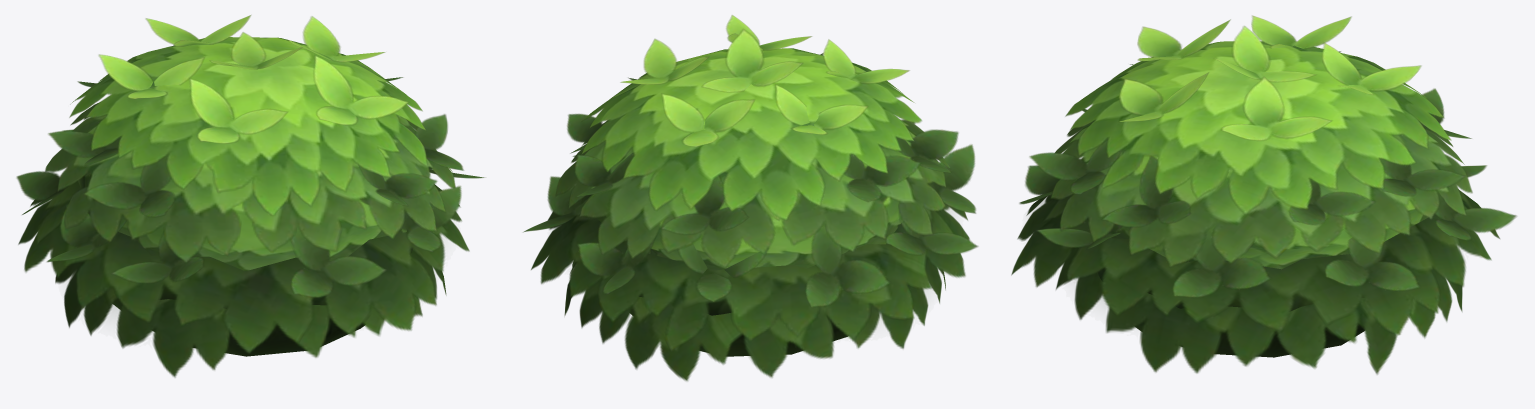
The model's file is NAT_Bush.glb.
The picture shows the model from 3 angles, left to right: view 1: azimuth 30°, elevation 25°; view 2: azimuth 150°, elevation 25°; view 3: azimuth 270°, elevation 25°; orthographic projection. The views are drawn at different scales.
Parts seen in each view (by area): view 1: stylized bush_stylized bush_0; view 2: stylized bush_stylized bush_0; view 3: stylized bush_stylized bush_0.
Boxes of the visible parts, x1,y1,x2,y2 form: stylized bush_stylized bush_0: (16, 15, 485, 377); stylized bush_stylized bush_0: (523, 15, 978, 381); stylized bush_stylized bush_0: (1011, 15, 1516, 374).
Bounding box in the file's own units: 1.51 × 0.9624 × 1.58.
1 material, 1 textured.
